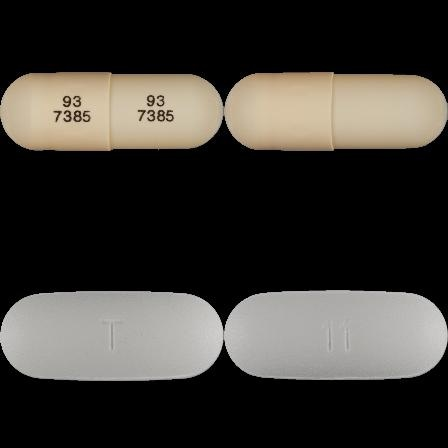50090-1214: (0, 0, 224, 224)
